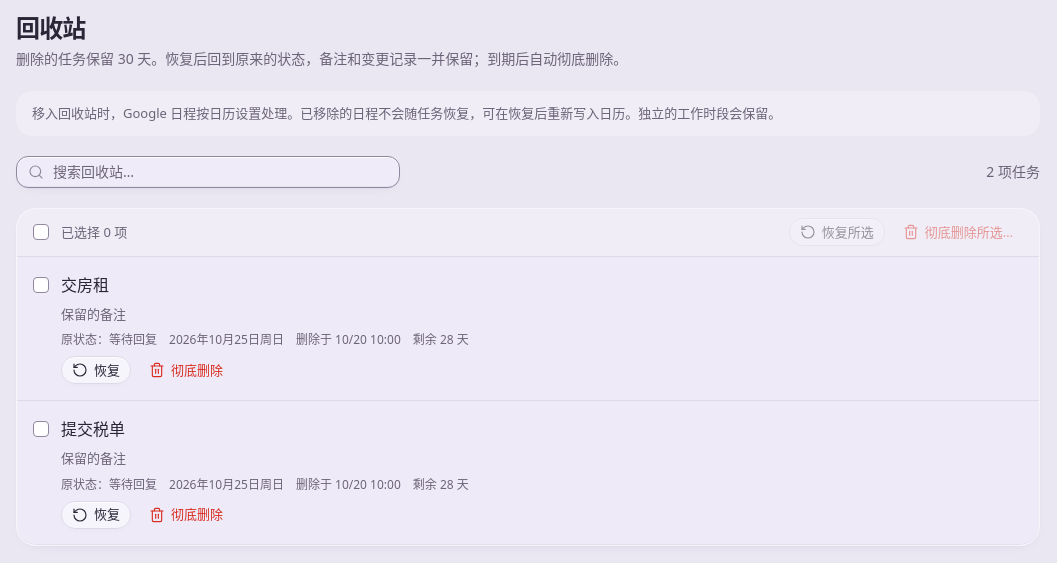
Test: Task recycle bin › supports batch restoration and clears the selection after refreshing
This screenshot has width=1057, height=563.
What coordinates should you click on to do the following:
click the checkbox named "选择本页所有任务"
I would click on:
 (41, 232)
Its box is [33, 224, 49, 240].
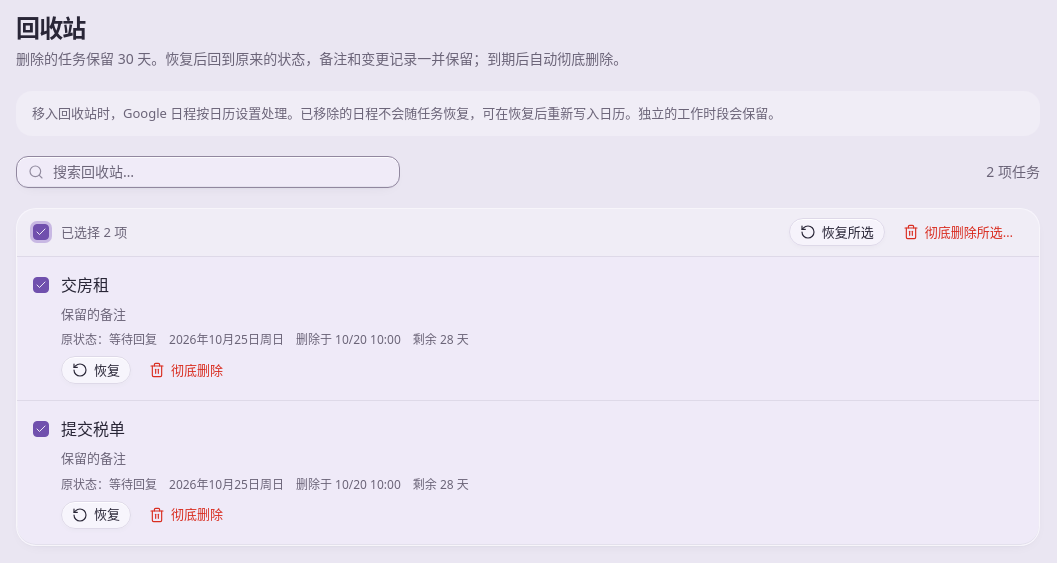
What coordinates should you click on to do the following:
click the button "恢复所选"
I would click on:
 (837, 232)
Its box is [789, 218, 885, 246].
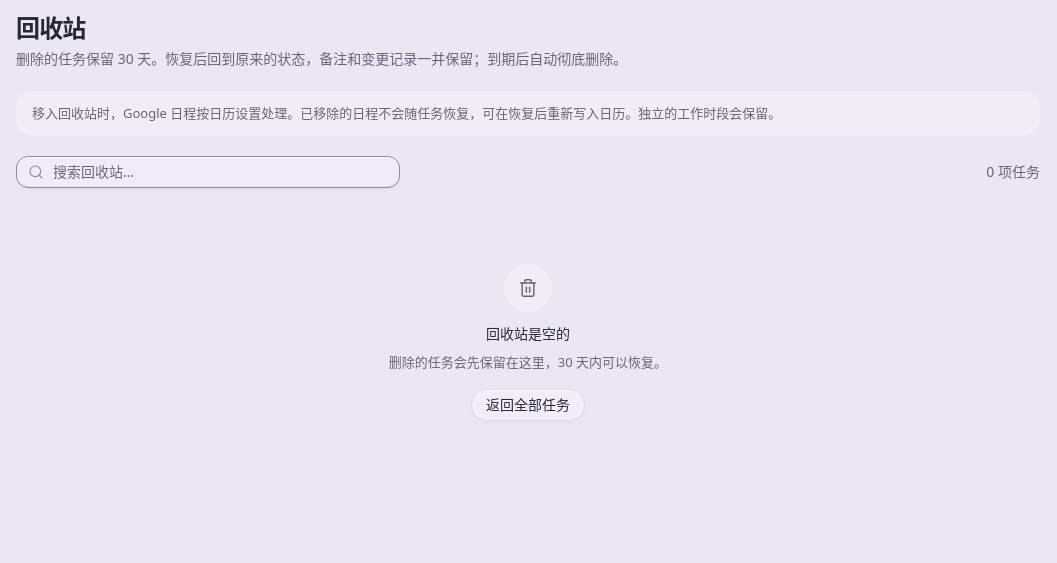
Check: the text "回收站是空的" is shown, box [486, 324, 570, 344]
